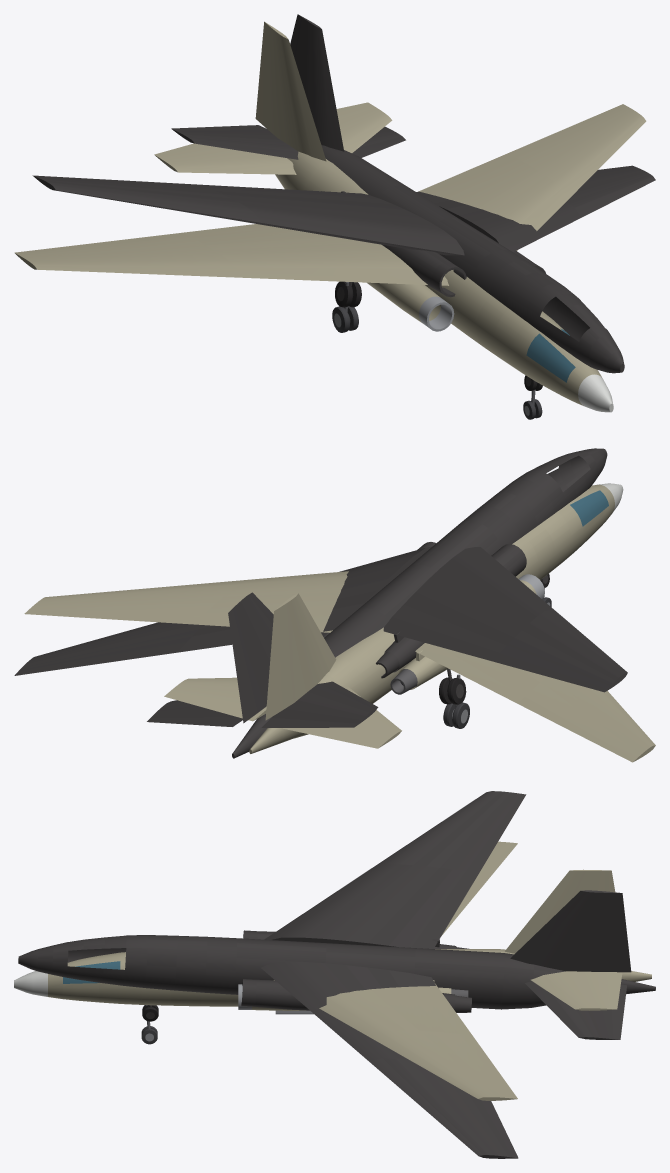
Rendered from bomber__h_6k.glb.
3 views of the same model, one above another, from view 1: azimuth 30°, elevation 25°; view 2: azimuth 150°, elevation 25°; view 3: azimuth 270°, elevation 25° (orthographic). The views are drawn at different scales.
Visible parts, largest first — view 1: Fuselage_Mesh, Wreck; view 2: Wreck, Fuselage_Mesh; view 3: Wreck, Fuselage_Mesh.
Boxes of the visible parts, x1,y1,x2,y2 form: Fuselage_Mesh: (14, 21, 646, 419); Wreck: (32, 14, 655, 390); Wreck: (14, 448, 627, 758); Fuselage_Mesh: (24, 483, 655, 762); Wreck: (18, 791, 655, 1158); Fuselage_Mesh: (14, 841, 651, 1100).
Size of what is drawn, in the model's own units: 33.56 by 10.36 by 35.01.
